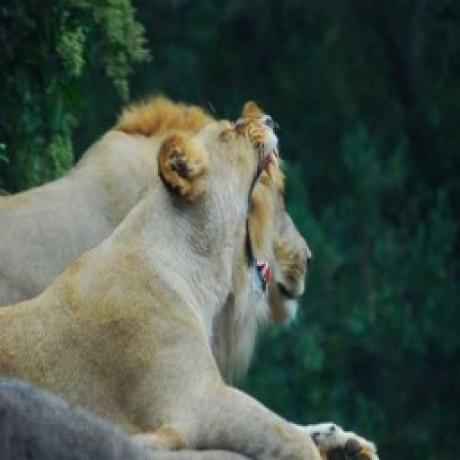Lion: (0, 112, 322, 460), (0, 98, 315, 334)
